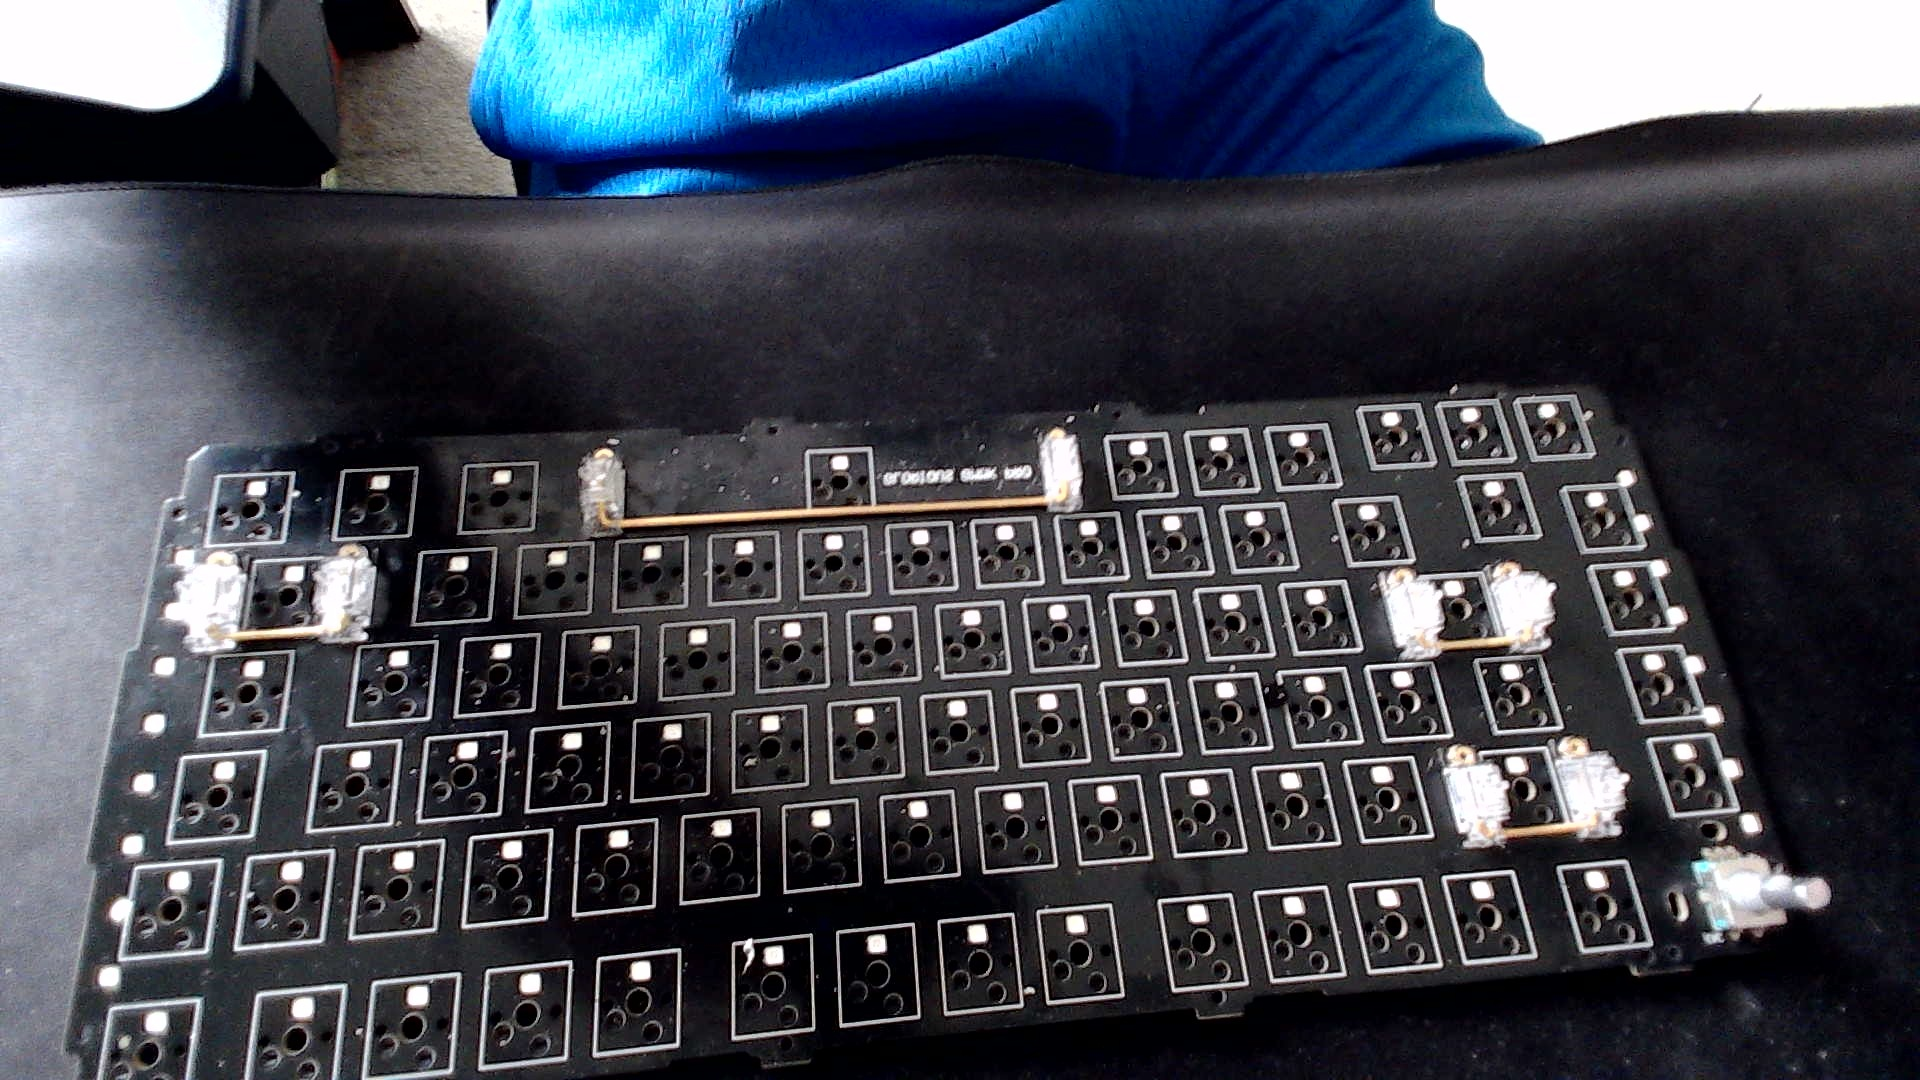pcb: (55, 330, 1857, 1080)
